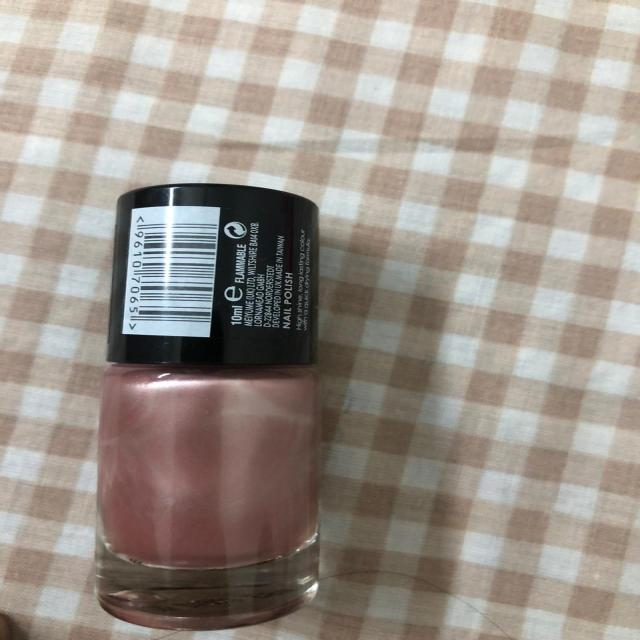nail polish: (82, 172, 344, 623)
